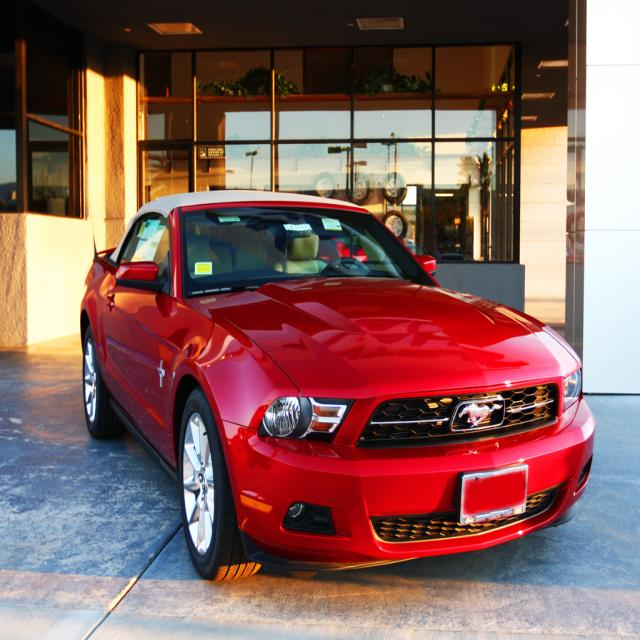car: (72, 197, 600, 578)
